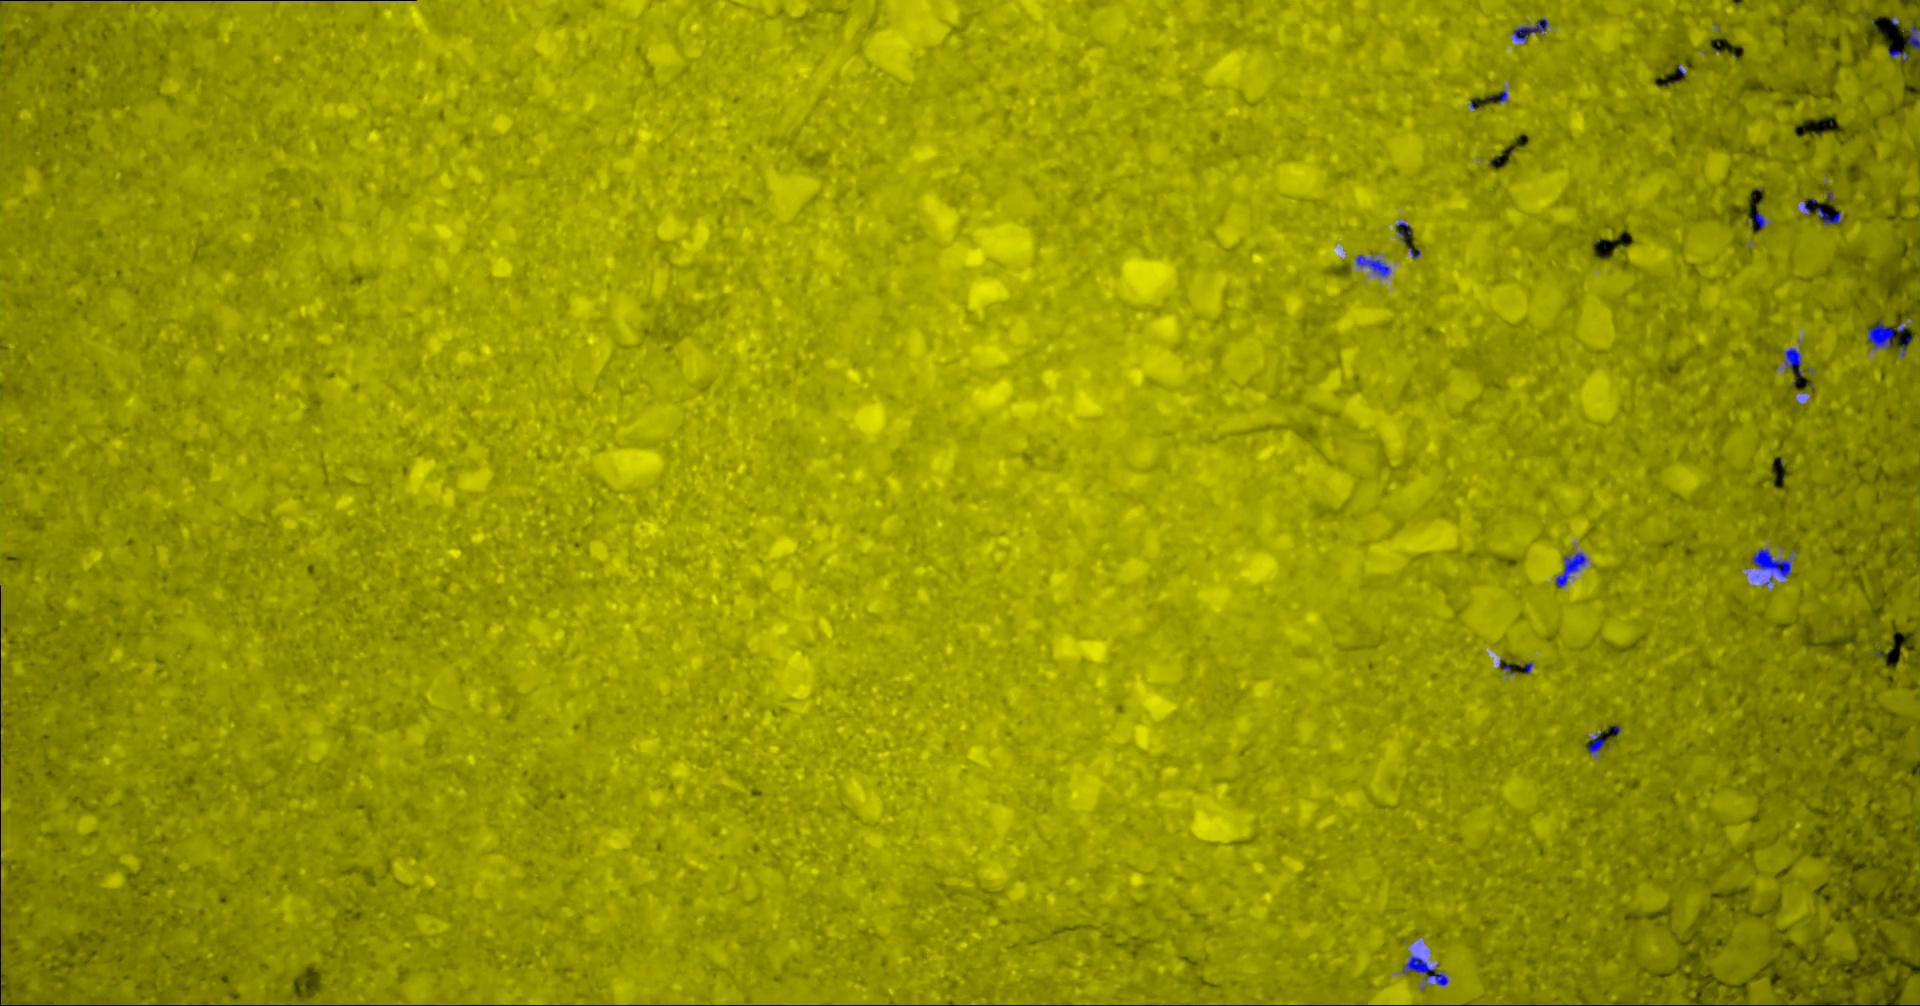ant: (1752, 547, 1792, 584), (1404, 954, 1450, 984), (1556, 553, 1589, 587), (1869, 319, 1907, 348), (1514, 18, 1550, 42), (1357, 254, 1392, 276), (1785, 348, 1804, 376), (1818, 206, 1843, 224), (1589, 732, 1606, 753), (1397, 221, 1412, 243), (1909, 25, 1920, 51), (1752, 211, 1768, 227), (1890, 50, 1909, 60)
